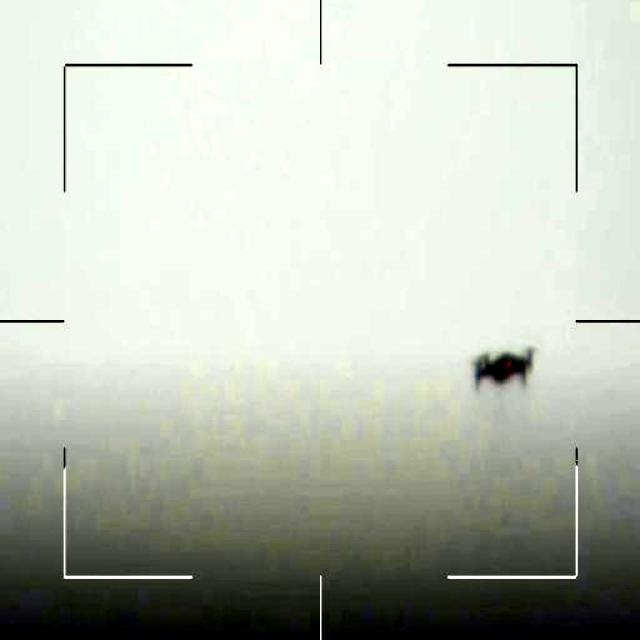bird: (466, 336, 539, 392)
